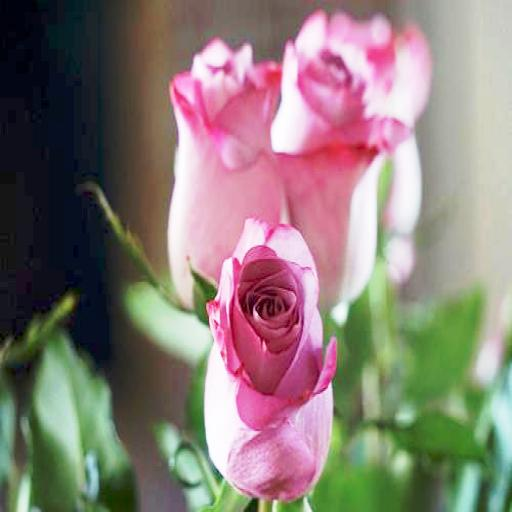rose: (203, 222, 336, 497), (282, 19, 396, 308), (168, 38, 284, 316)
